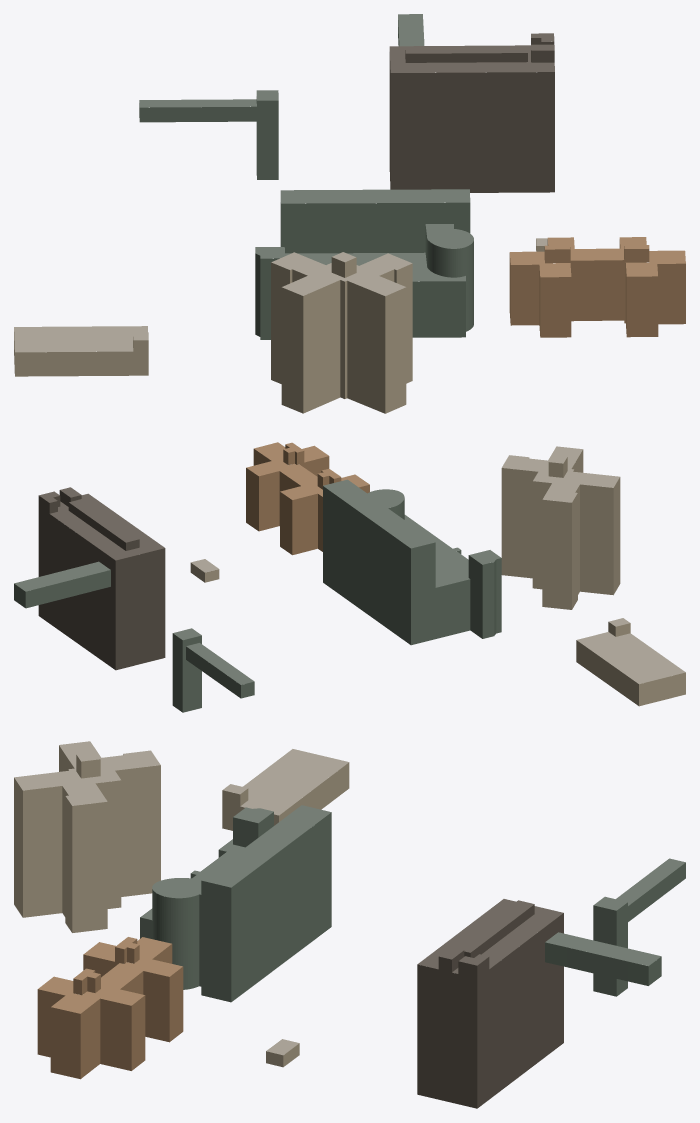
File: tile-10_2.glb
The picture shows the model from 3 angles, top to bottom: view 1: azimuth 30°, elevation 25°; view 2: azimuth 150°, elevation 25°; view 3: azimuth 270°, elevation 25°; orthographic projection. The views are drawn at different scales.
Parts seen in each view (by area): view 1: wall, roof; view 2: wall, roof; view 3: wall, roof.
Boxes of the visible parts, x1,y1,x2,y2 form: wall: (14,20,685,413); roof: (14,14,685,352); wall: (14,444,685,712); roof: (14,442,685,684); wall: (14,745,685,1108); roof: (14,741,685,1055).
Bounding box in the file's own units: 206 × 42.56 × 177.
